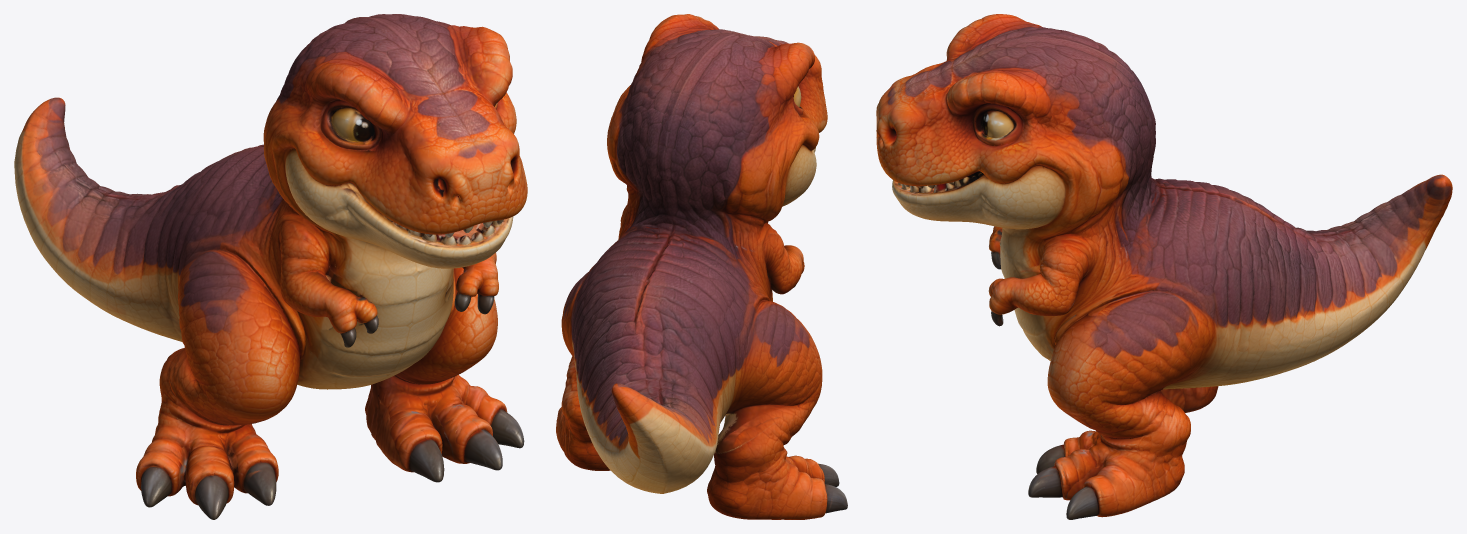
The model's file is varco-source.glb.
3 renders of one model, left to right at view 1: azimuth 30°, elevation 25°; view 2: azimuth 150°, elevation 25°; view 3: azimuth 270°, elevation 25°, orthographic. The views are drawn at different scales.
Parts seen in each view (by area): view 1: texture_mapping; view 2: texture_mapping; view 3: texture_mapping.
Boxes of the visible parts, x1,y1,x2,y2 form: texture_mapping: [14, 14, 527, 519]; texture_mapping: [556, 14, 847, 519]; texture_mapping: [876, 14, 1452, 519].
Bounding box in the file's own units: 0.626 × 0.804 × 1.
1 material, 1 textured.
